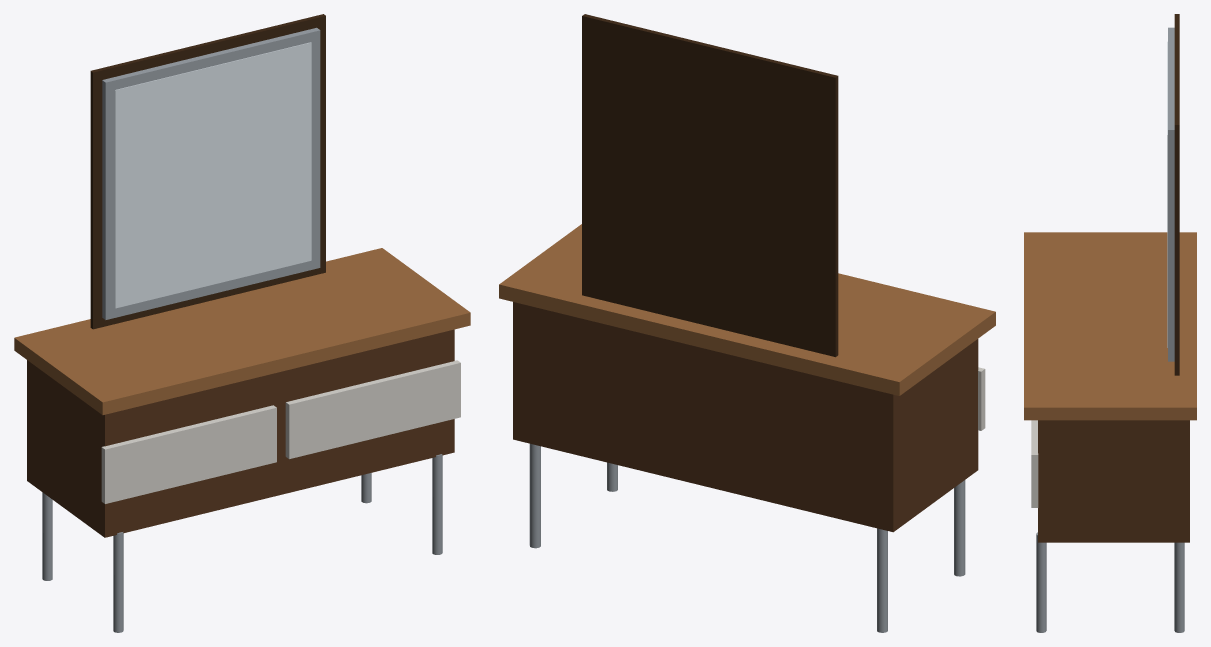
Rendered from vanity-lite.glb.
3 views of the same model, side by side, from view 1: azimuth 30°, elevation 25°; view 2: azimuth 150°, elevation 25°; view 3: azimuth 270°, elevation 25° (orthographic). The views are drawn at different scales.
Parts seen in each view (by area): view 1: material-4-mirror, material-3-top, material-1-body, material-2-drawer, material-5-metal, material-6-trim, material-0-leg; view 2: material-6-trim, material-1-body, material-3-top, material-0-leg; view 3: material-3-top, material-1-body, material-5-metal, material-6-trim, material-0-leg, material-2-drawer, material-4-mirror.
Boxes of the visible parts, box(x1,y1,x2,y2) form: material-4-mirror: box(115, 42, 311, 308); material-3-top: box(14, 248, 470, 414); material-1-body: box(27, 329, 454, 537); material-2-drawer: box(101, 360, 460, 503); material-5-metal: box(102, 27, 320, 319); material-6-trim: box(90, 14, 325, 329); material-0-leg: box(42, 454, 442, 632); material-6-trim: box(582, 14, 838, 357); material-1-body: box(513, 302, 978, 532); material-3-top: box(499, 224, 995, 395); material-0-leg: box(529, 443, 965, 632); material-3-top: box(1024, 232, 1196, 420); material-1-body: box(1038, 420, 1189, 542); material-5-metal: box(1168, 27, 1174, 361); material-6-trim: box(1174, 14, 1179, 375); material-0-leg: box(1036, 532, 1184, 632); material-2-drawer: box(1031, 420, 1038, 507); material-4-mirror: box(1167, 41, 1167, 347).
Bounding box in the file's own units: 1.2 × 1.55 × 0.5.
